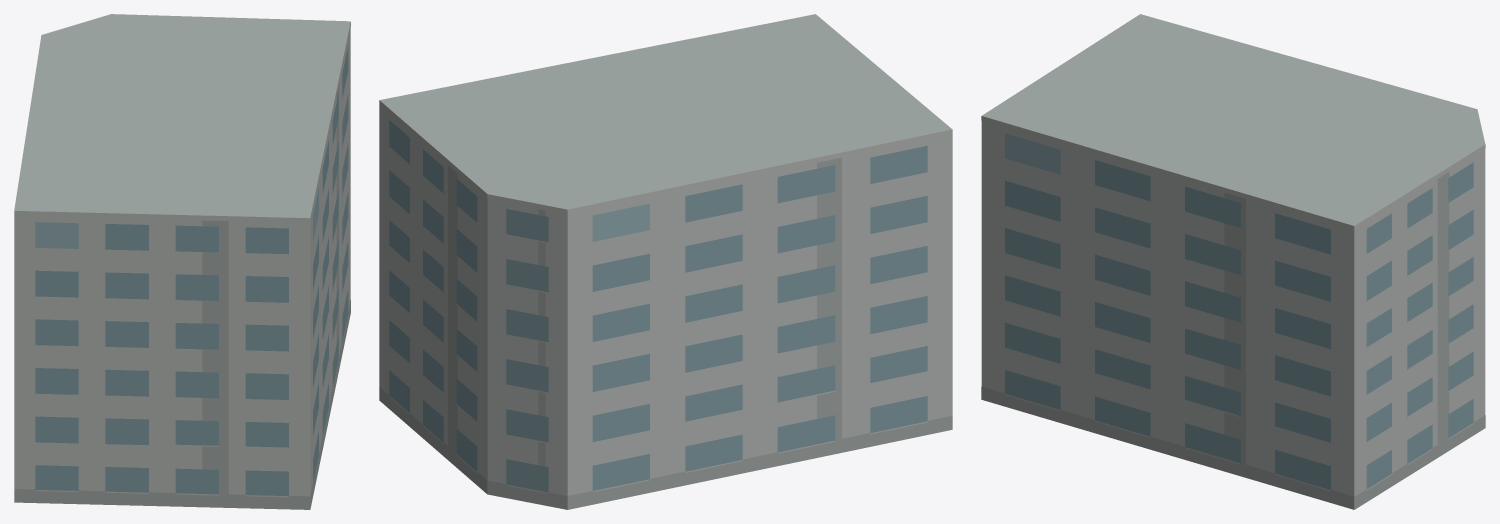
The model's file is survey-upis-32854936.glb.
3 renders of one model, left to right at view 1: azimuth 30°, elevation 25°; view 2: azimuth 150°, elevation 25°; view 3: azimuth 270°, elevation 25°, orthographic. The views are drawn at different scales.
Parts seen in each view (by area): view 1: survey-upis-32854936.tmp; view 2: survey-upis-32854936.tmp; view 3: survey-upis-32854936.tmp.
Boxes of the visible parts, x1,y1,x2,y2 form: survey-upis-32854936.tmp: (14, 14, 350, 509); survey-upis-32854936.tmp: (379, 14, 952, 509); survey-upis-32854936.tmp: (981, 14, 1485, 509).
Size of the model in its own units: 22.92 by 14.3 by 23.02.
